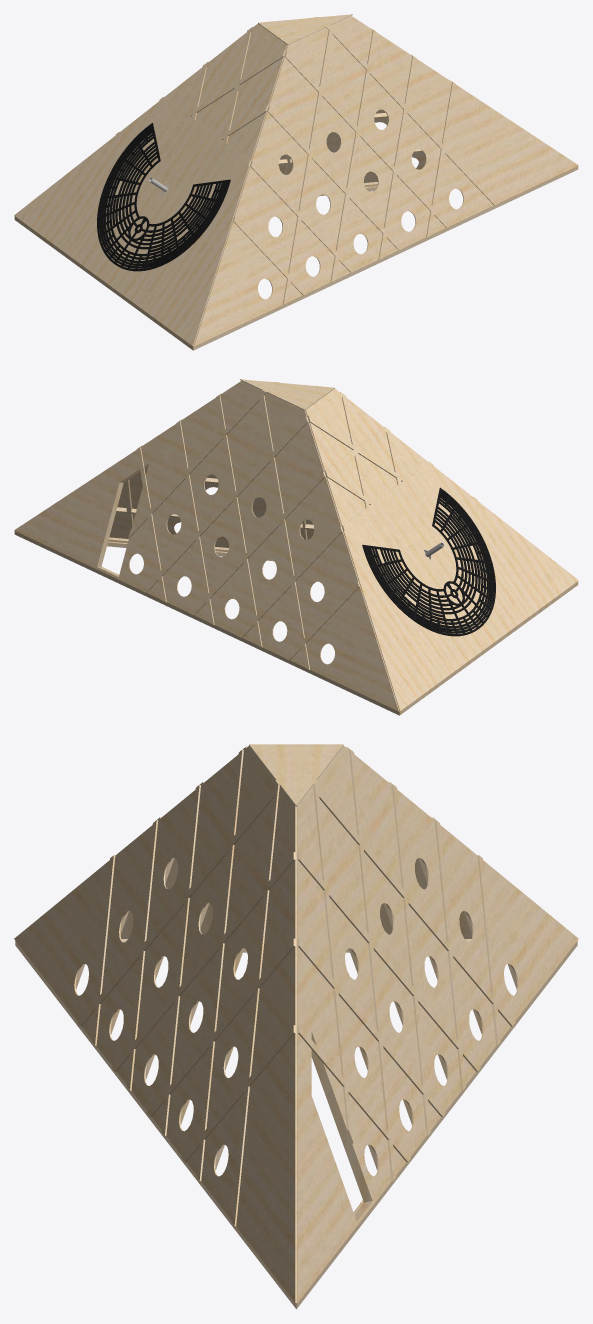
File: About_Time.gltf
3 renders of one model, top to bottom at view 1: azimuth 30°, elevation 25°; view 2: azimuth 150°, elevation 25°; view 3: azimuth 270°, elevation 25°, orthographic. The views are drawn at different scales.
Visible parts, largest first — view 1: unfinished pine 2d, black low gloss plastic; view 2: unfinished pine 2d, black low gloss plastic; view 3: unfinished pine 2d.
Part boxes in pixels (bbox=[...]): unfinished pine 2d: bbox=[14, 14, 578, 350]; black low gloss plastic: bbox=[97, 123, 230, 271]; unfinished pine 2d: bbox=[14, 379, 578, 715]; black low gloss plastic: bbox=[362, 487, 495, 636]; unfinished pine 2d: bbox=[14, 744, 578, 1309].
Bounding box in the file's own units: 9.36 × 3.96 × 6.12.
3 materials, 1 textured.
